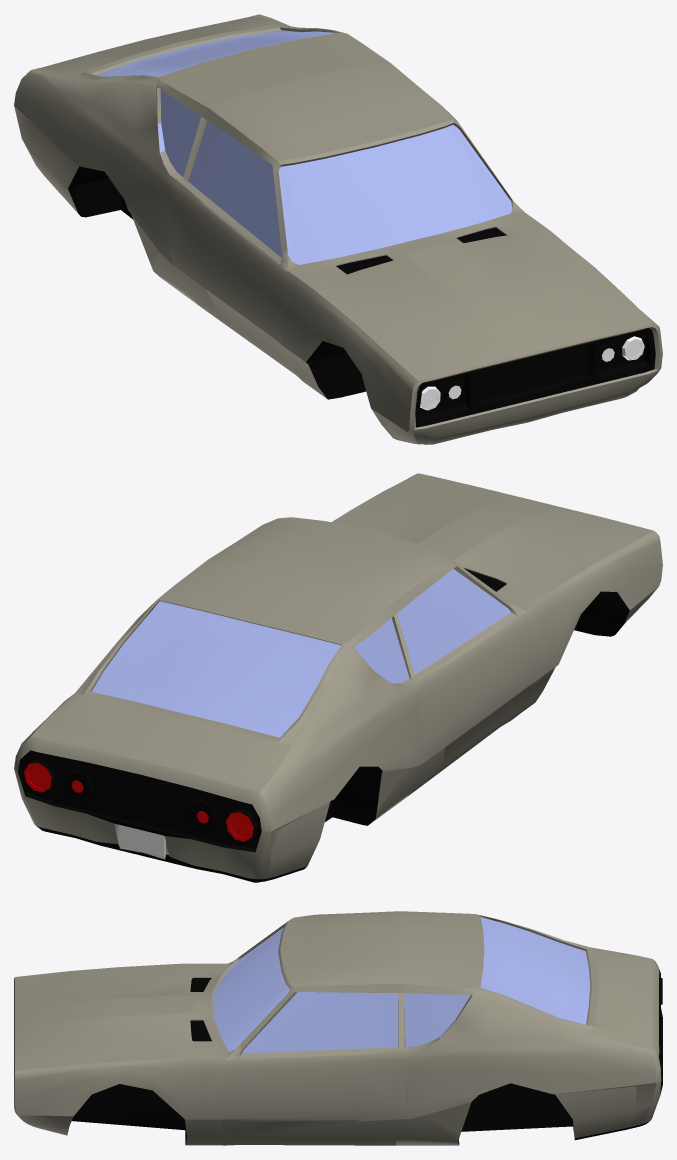
File: datsub-240-k-gt.fbx
The picture shows the model from 3 angles, top to bottom: view 1: azimuth 30°, elevation 25°; view 2: azimuth 150°, elevation 25°; view 3: azimuth 270°, elevation 25°; orthographic projection. The views are drawn at different scales.
Parts seen in each view (by area): view 1: Cube; view 2: Cube; view 3: Cube.
Boxes of the visible parts, left/top/right/bottom form: Cube: left=14, top=14, right=662, bottom=444; Cube: left=14, top=473, right=662, bottom=882; Cube: left=14, top=911, right=662, bottom=1145.
Size of the model in its own units: 293 by 110 by 81.59.
